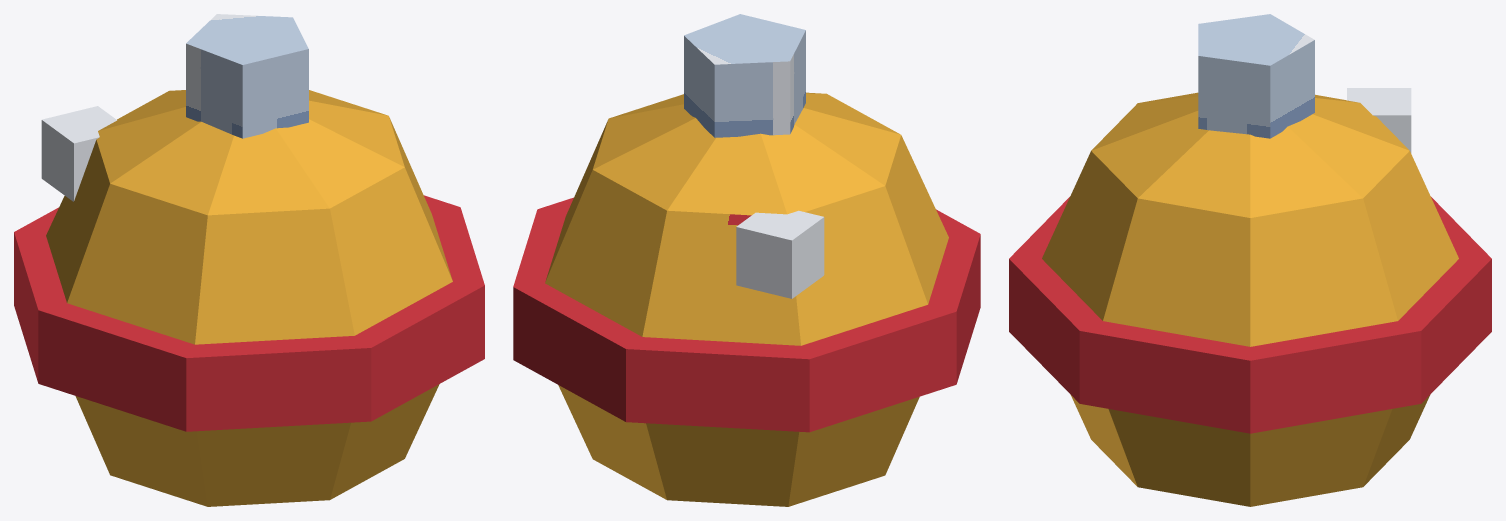
File: ornament.glb
3 views of the same model, side by side, from view 1: azimuth 30°, elevation 25°; view 2: azimuth 150°, elevation 25°; view 3: azimuth 270°, elevation 25° (orthographic).
Parts seen in each view (by area): view 1: ornament; view 2: ornament; view 3: ornament.
Part boxes in pixels (<box>): ornament: <box>14,14,484,506</box>; ornament: <box>513,14,980,506</box>; ornament: <box>1009,14,1491,506</box>.
Bounding box in the file's own units: 0.3 × 0.315 × 0.3.
1 material, 1 textured.
